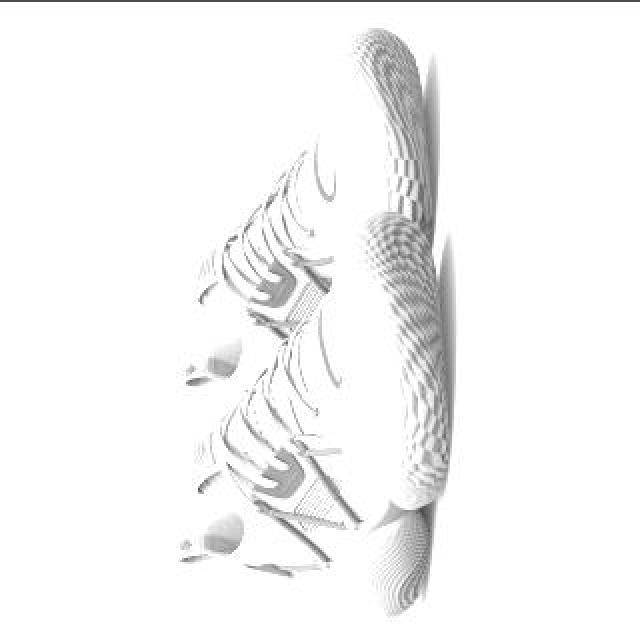shoe: (178, 211, 450, 615), (183, 25, 431, 421)
